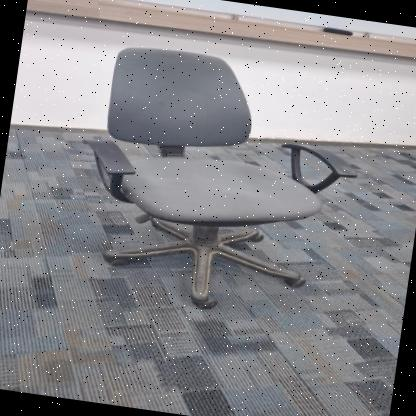chair: (60, 32, 378, 330)
